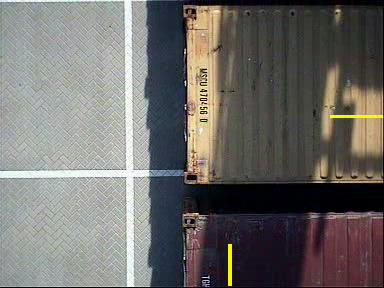groundmarker_2: (127, 149, 194, 192)
